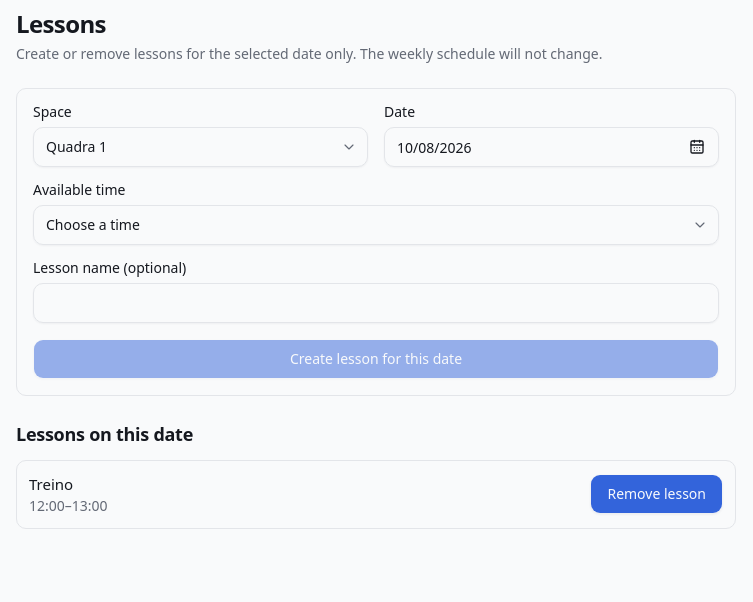
Test case: TeacherLessonsPage › explains an out-of-range date in en and blocks lesson creation
Step 1. Replace the text in the field labelled "Date" with "10/07/2026" → (552, 147), box [384,127,719,167]
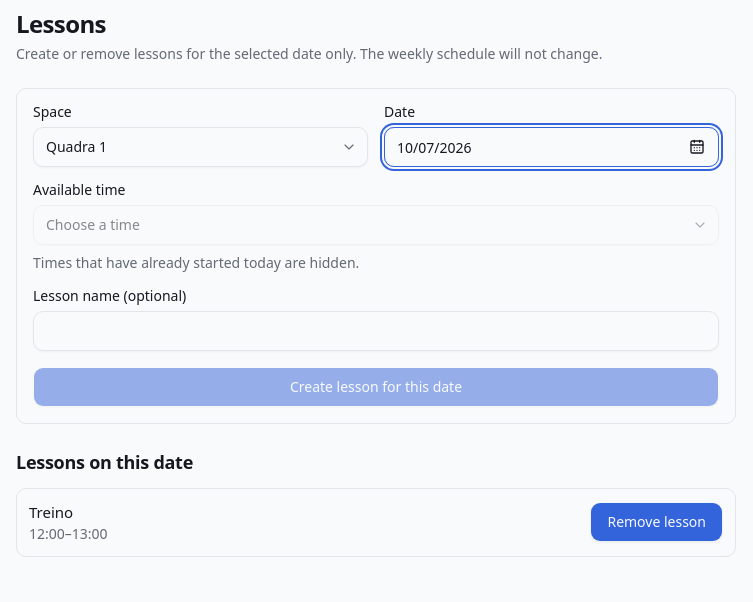
Step 2. Press Tab
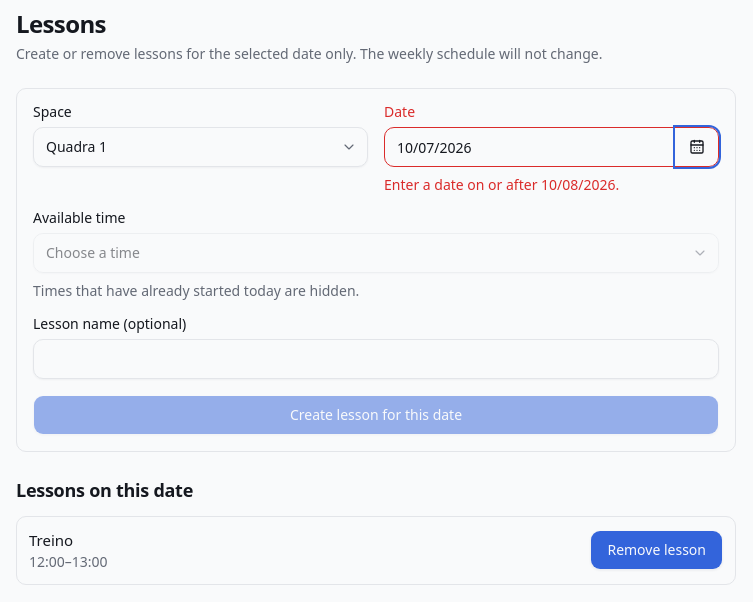
Check: the button "Create lesson for this date" is disabled, box [33,395,719,435]
Check: the text "Enter a date on or after 10/08/2026." is shown, box [384,175,619,194]
